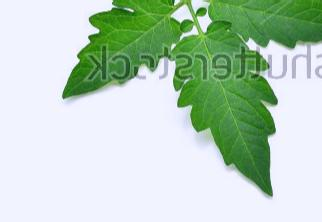Tomato leaf: (157, 9, 283, 207), (37, 0, 181, 113), (184, 0, 322, 63)
